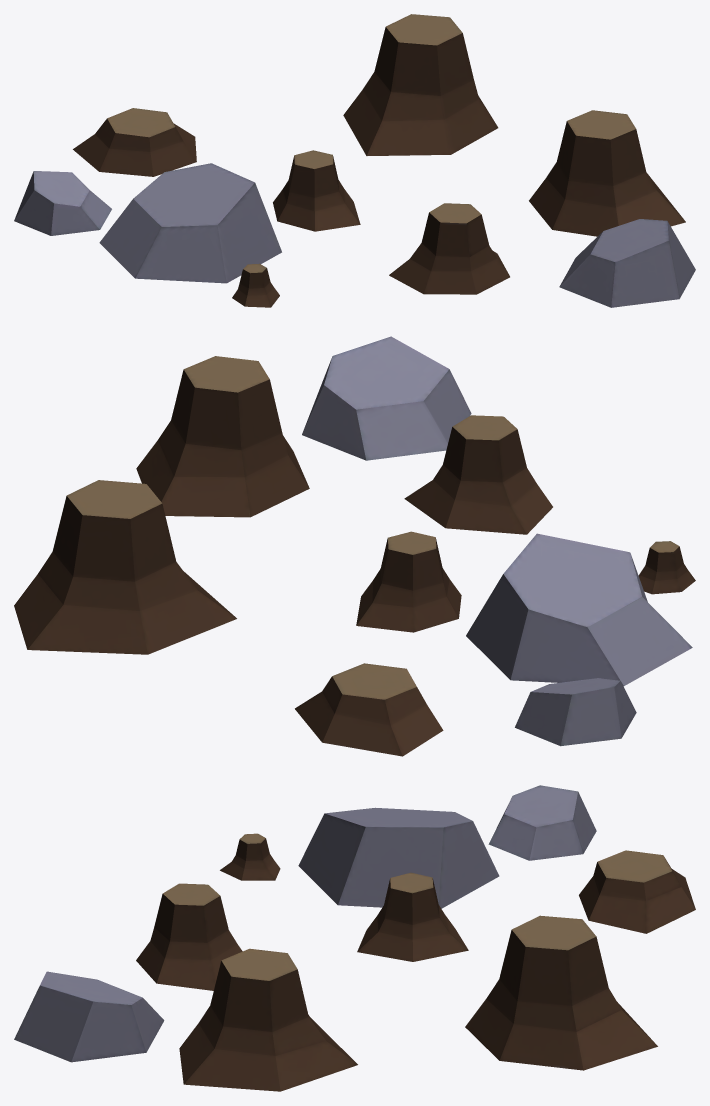
Rendered from tile_wood_4_ruin.fbx.
3 renders of one model, top to bottom at view 1: azimuth 30°, elevation 25°; view 2: azimuth 150°, elevation 25°; view 3: azimuth 270°, elevation 25°, orthographic. The views are drawn at different scales.
Parts seen in each view (by area): view 1: wood_4_ruin; view 2: wood_4_ruin; view 3: wood_4_ruin.
Boxes of the visible parts, x1,y1,x2,y2 form: wood_4_ruin: (14, 14, 695, 307); wood_4_ruin: (14, 336, 695, 756); wood_4_ruin: (14, 785, 695, 1091).
Size of the model in its own units: 0.0294 by 0.00502 by 0.0306.
